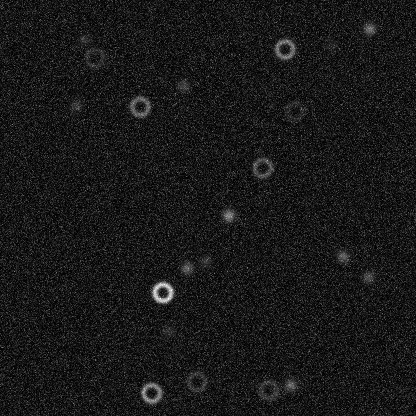Ring: (250, 155, 274, 179), (256, 377, 280, 401), (82, 45, 106, 69), (282, 99, 306, 123), (150, 280, 174, 304), (272, 36, 296, 60), (127, 94, 151, 118), (139, 380, 163, 404), (184, 369, 208, 393)
Spot: (175, 77, 191, 93), (334, 247, 350, 263), (360, 268, 376, 284), (67, 97, 83, 113), (160, 322, 176, 338), (361, 20, 377, 36), (323, 36, 339, 52), (178, 260, 194, 276), (197, 252, 213, 268), (75, 31, 91, 47), (220, 207, 236, 223), (282, 376, 298, 392)
